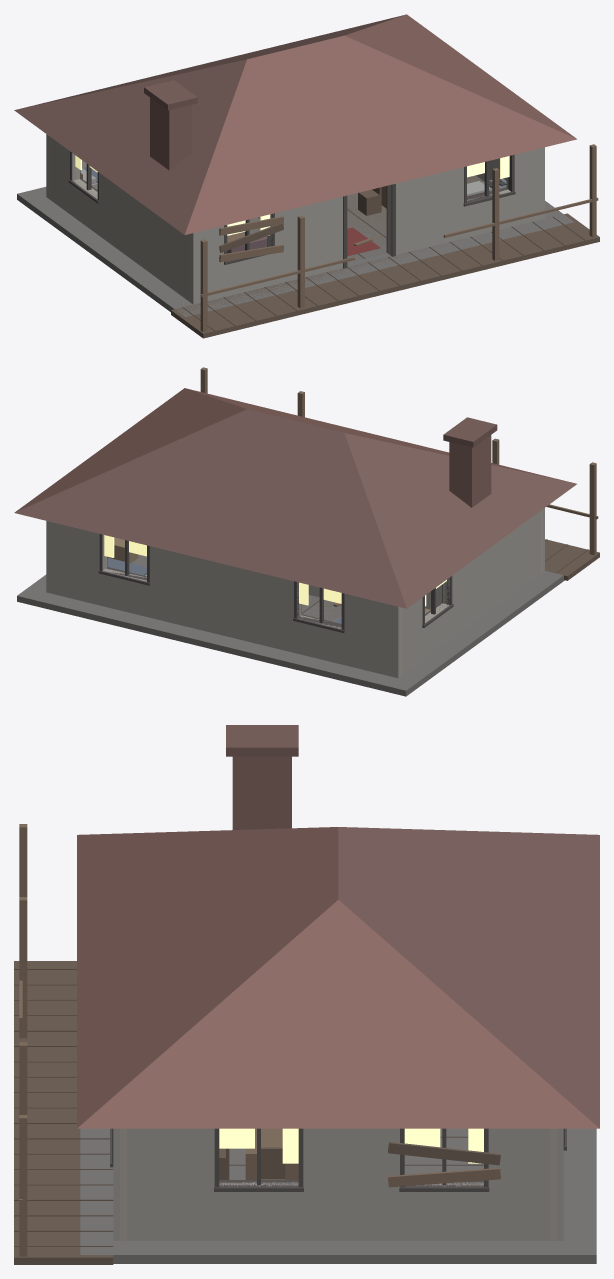
Rendered from casa_07_fazenda.glb.
The picture shows the model from 3 angles, top to bottom: view 1: azimuth 30°, elevation 25°; view 2: azimuth 150°, elevation 25°; view 3: azimuth 270°, elevation 25°; orthographic projection. The views are drawn at different scales.
Parts seen in each view (by area): view 1: roof, wall_south, exterior_props, floor, walls_exterior, chimney, decor_grim, furniture, glass; view 2: roof, walls_exterior, floor, chimney, exterior_props, glass, furniture; view 3: roof, walls_exterior, exterior_props, floor, chimney, decor_grim, glass, furniture, wall_south.
Boxes of the visible parts, x1,y1,x2,y2 form: roof: (14, 14, 576, 234); wall_south: (189, 147, 544, 304); exterior_props: (171, 144, 599, 338); floor: (17, 175, 574, 316); walls_exterior: (46, 134, 495, 300); chimney: (144, 80, 197, 170); decor_grim: (219, 216, 380, 262); furniture: (80, 158, 506, 253); glass: (75, 155, 509, 235); roof: (14, 388, 576, 608); walls_exterior: (46, 511, 540, 677); floor: (17, 554, 564, 696); chimney: (443, 417, 497, 507); exterior_props: (200, 367, 599, 580); glass: (104, 535, 446, 606); furniture: (107, 537, 430, 623); roof: (77, 827, 599, 1128); walls_exterior: (126, 1128, 566, 1240); exterior_props: (14, 824, 113, 1264); floor: (80, 1128, 596, 1263); chimney: (226, 725, 298, 829); decor_grim: (388, 1142, 500, 1187); glass: (219, 1128, 483, 1163); furniture: (219, 1128, 298, 1179); wall_south: (110, 1128, 126, 1240).
Bounding box in the file's own units: 10.6 × 4.5 × 8.85.
